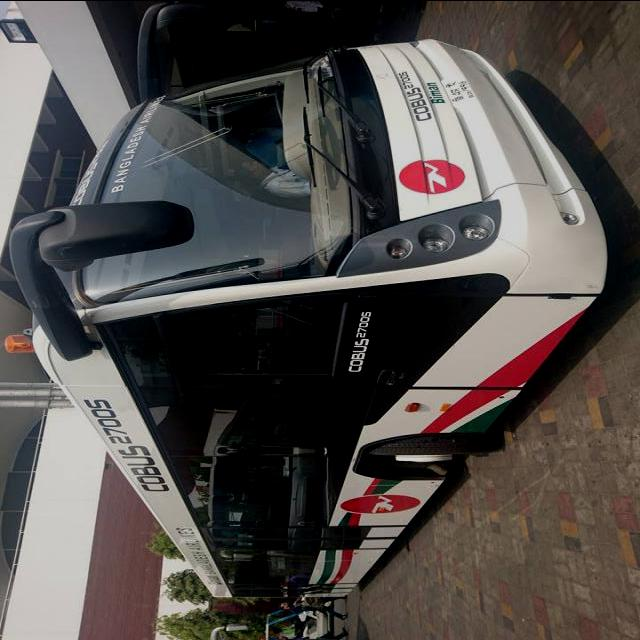bus: (3, 2, 611, 598)
